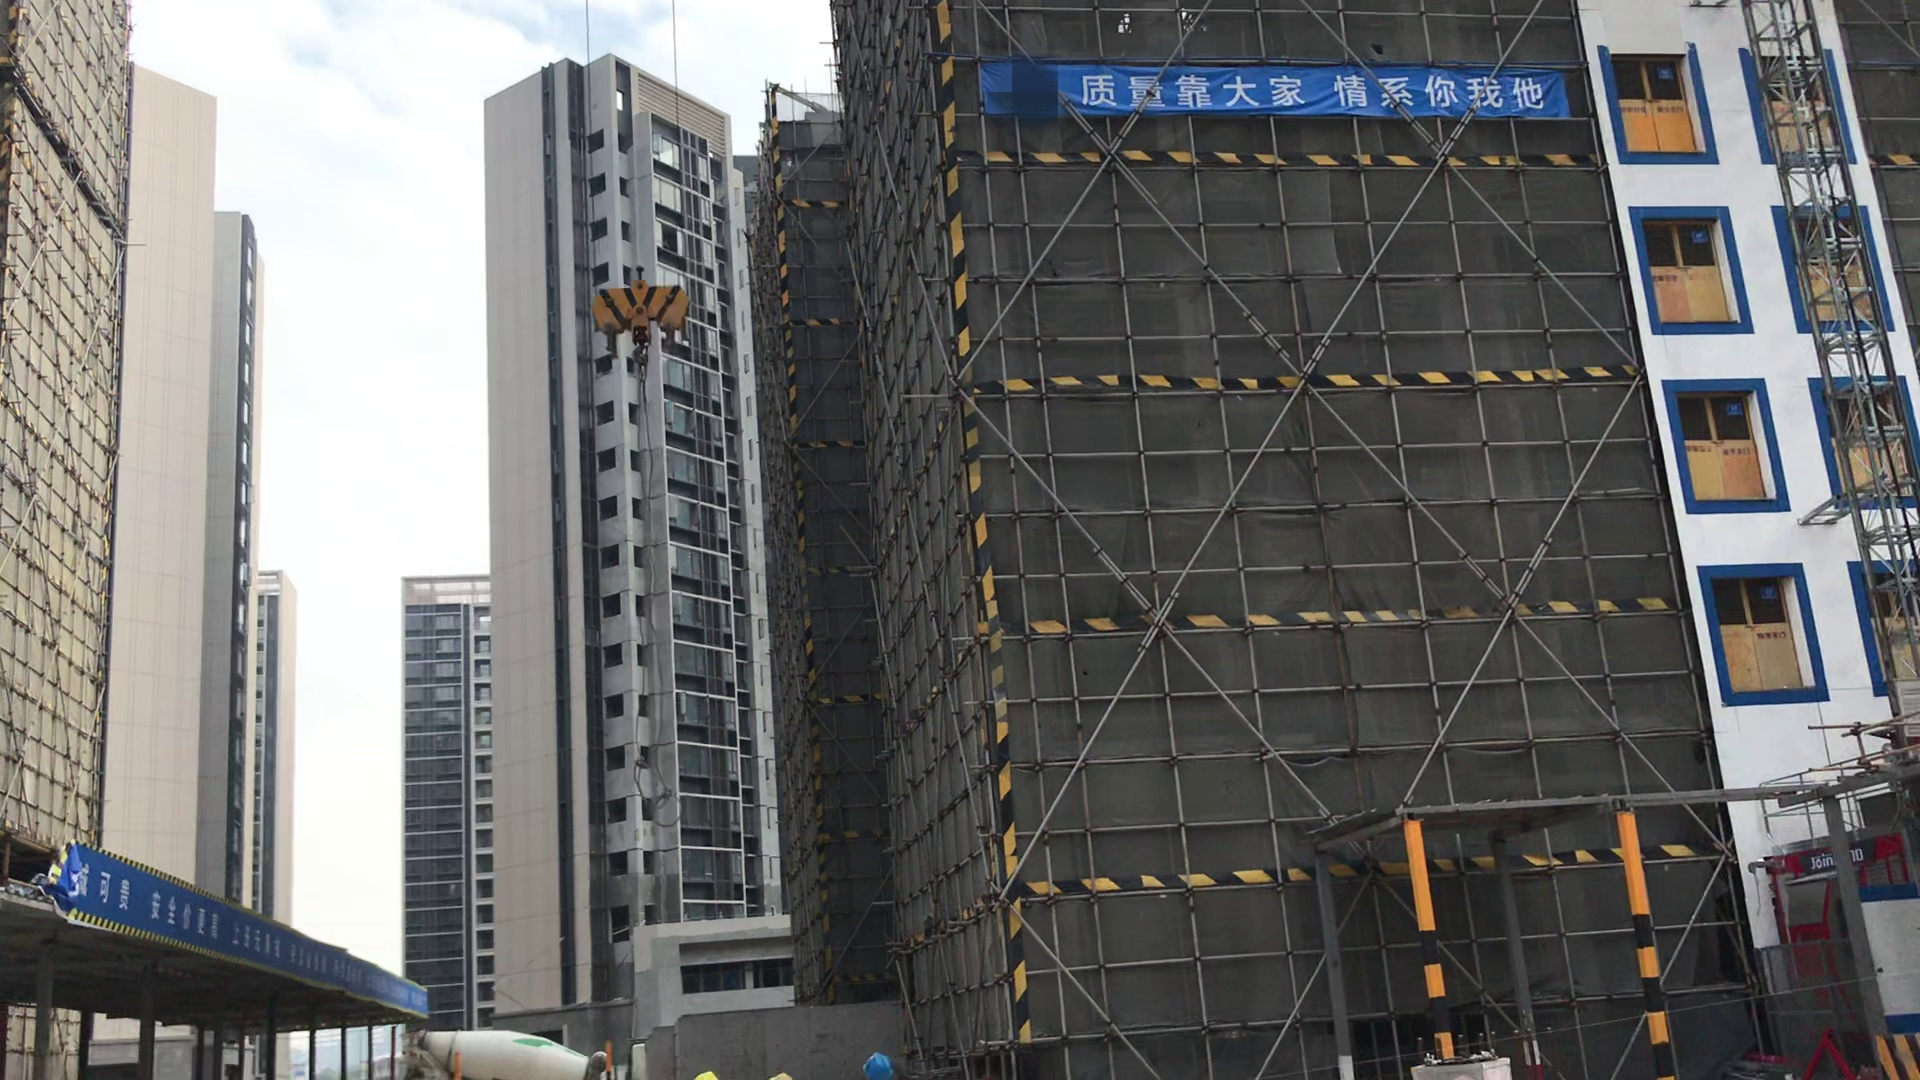helmet: (857, 1054, 909, 1077)
hook: (584, 258, 703, 382)
slogan: (1067, 65, 1557, 123)
